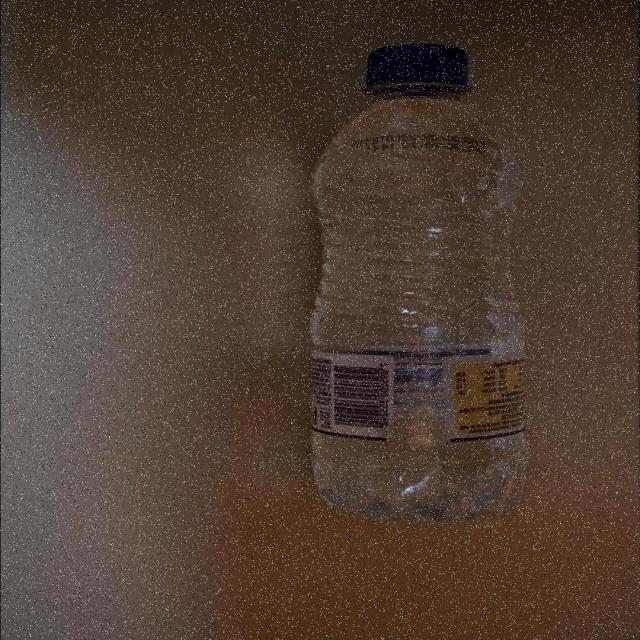Water: (305, 41, 527, 522)
